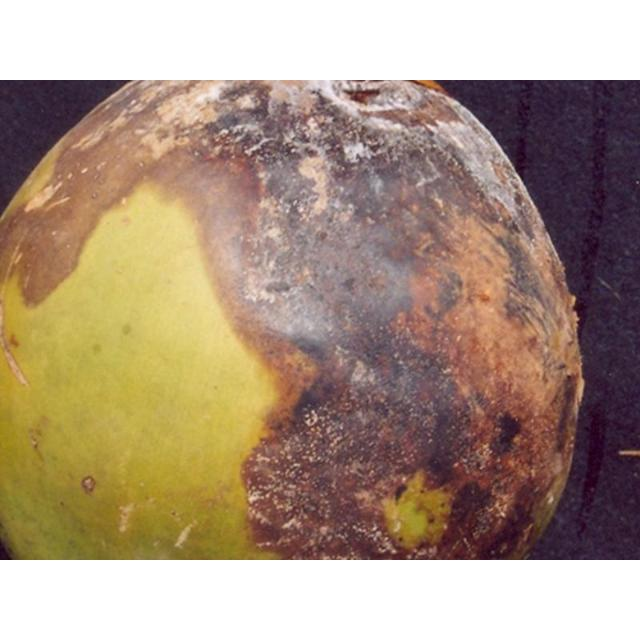damaged: (0, 80, 587, 559)
